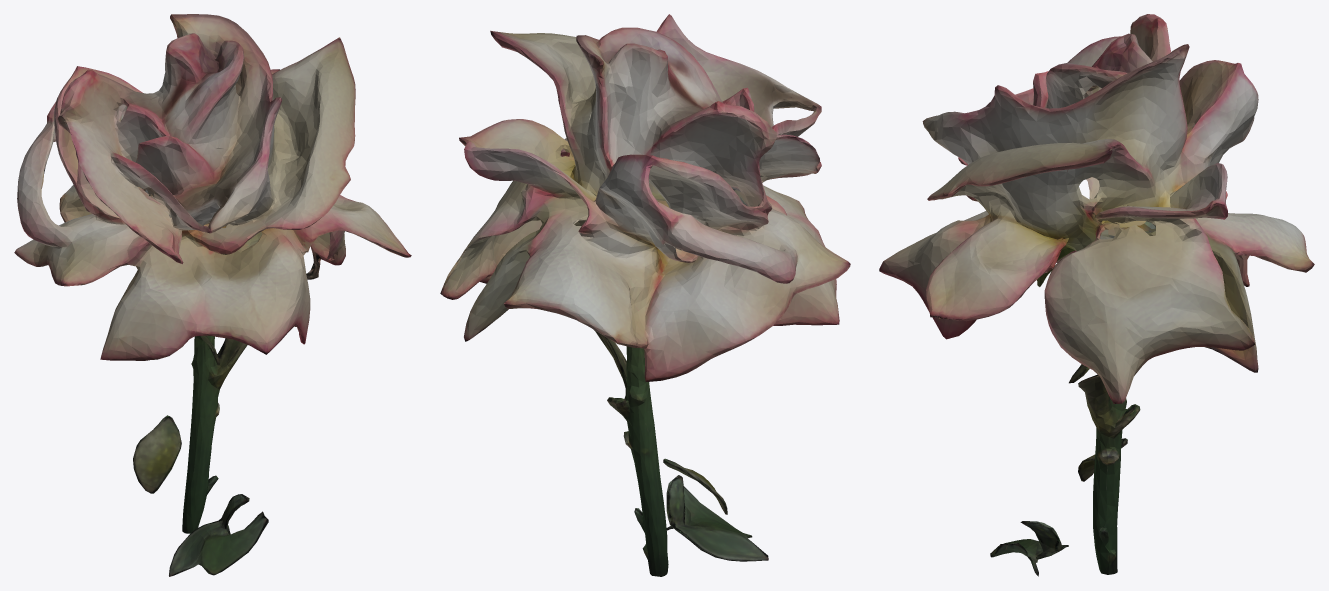
The picture shows the model from 3 angles, left to right: view 1: azimuth 30°, elevation 25°; view 2: azimuth 150°, elevation 25°; view 3: azimuth 270°, elevation 25°; orthographic projection. The views are drawn at different scales.
Visible parts, largest first — view 1: world; view 2: world; view 3: world.
Boxes of the visible parts, x1=… form: world: x1=14, y1=14, x2=411, y2=576; world: x1=440, y1=14, x2=850, y2=576; world: x1=879, y1=14, x2=1314, y2=576.
Size of the model in its own units: 0.6279 by 0.936 by 0.6841.
Materials: 1 (1 with a texture image).
